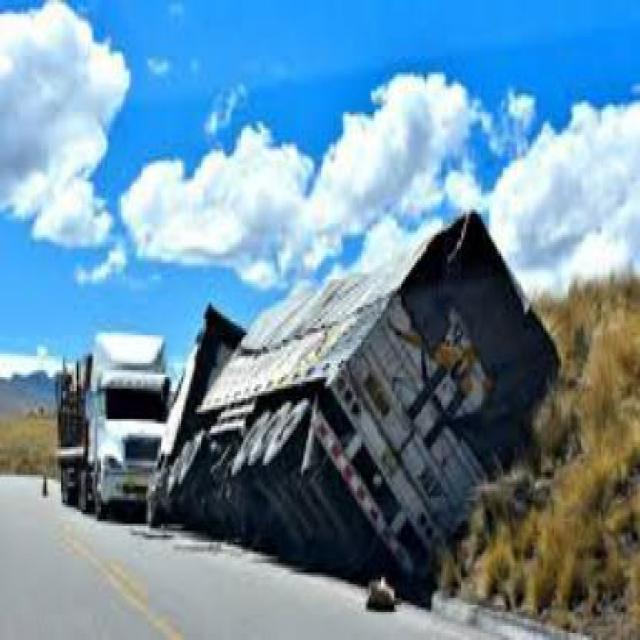accident: (46, 191, 577, 579)
